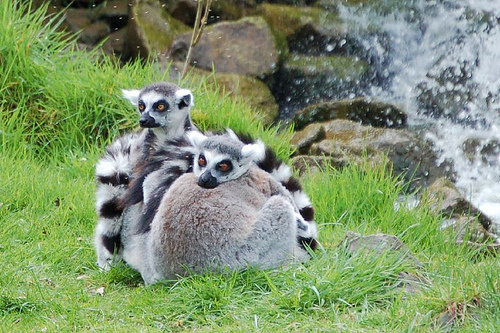cat: (143, 132, 320, 253), (93, 80, 196, 273)
